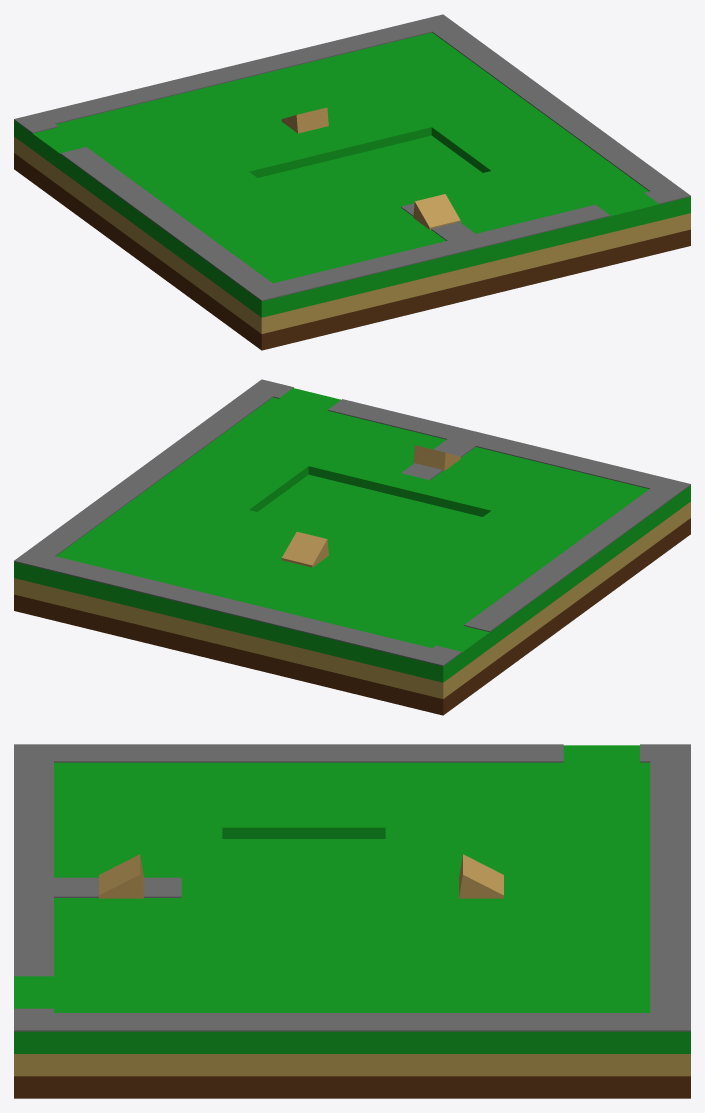
Rendered from Common-Bridge-Hitbox.glb.
3 renders of one model, top to bottom at view 1: azimuth 30°, elevation 25°; view 2: azimuth 150°, elevation 25°; view 3: azimuth 270°, elevation 25°, orthographic. The views are drawn at different scales.
Visible parts, largest first — view 1: Plane.029, Plane.028, Plane.025, Cube.1154; view 2: Plane.029, Plane.028, Plane.025, Cube.1154; view 3: Plane.029, Plane.028, Plane.025, Cube.1154.
Part boxes in pixels (x1,y1,x2,y2): Plane.029: (14, 32, 690, 350); Plane.028: (14, 14, 690, 204); Plane.025: (60, 147, 610, 301); Cube.1154: (281, 107, 460, 229); Plane.029: (14, 388, 690, 715); Plane.028: (14, 379, 461, 666); Plane.025: (327, 399, 690, 632); Cube.1154: (281, 445, 460, 567); Plane.029: (14, 745, 690, 1098); Plane.028: (14, 744, 690, 1031); Plane.025: (14, 744, 563, 976); Cube.1154: (99, 854, 503, 898).
Size of what is drawn, in the model's own units: 33.35 by 4.96 by 33.35.
